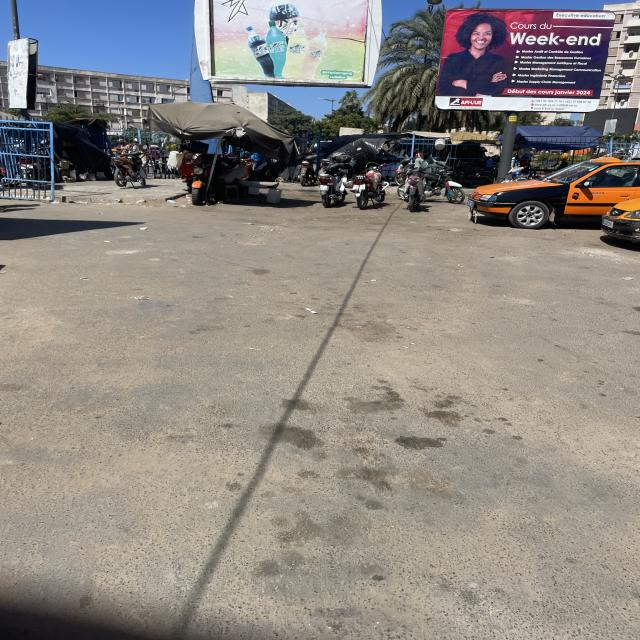moto: (354, 164, 386, 210), (319, 161, 349, 209), (426, 170, 466, 205), (113, 152, 148, 189), (406, 170, 426, 211), (298, 155, 318, 187)
moto tricycle: (181, 151, 253, 206)
taxi: (468, 157, 640, 230), (603, 200, 640, 244)
